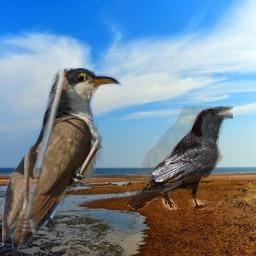Crow: (125, 106, 233, 210)
Cuckoo: (2, 68, 149, 252)
